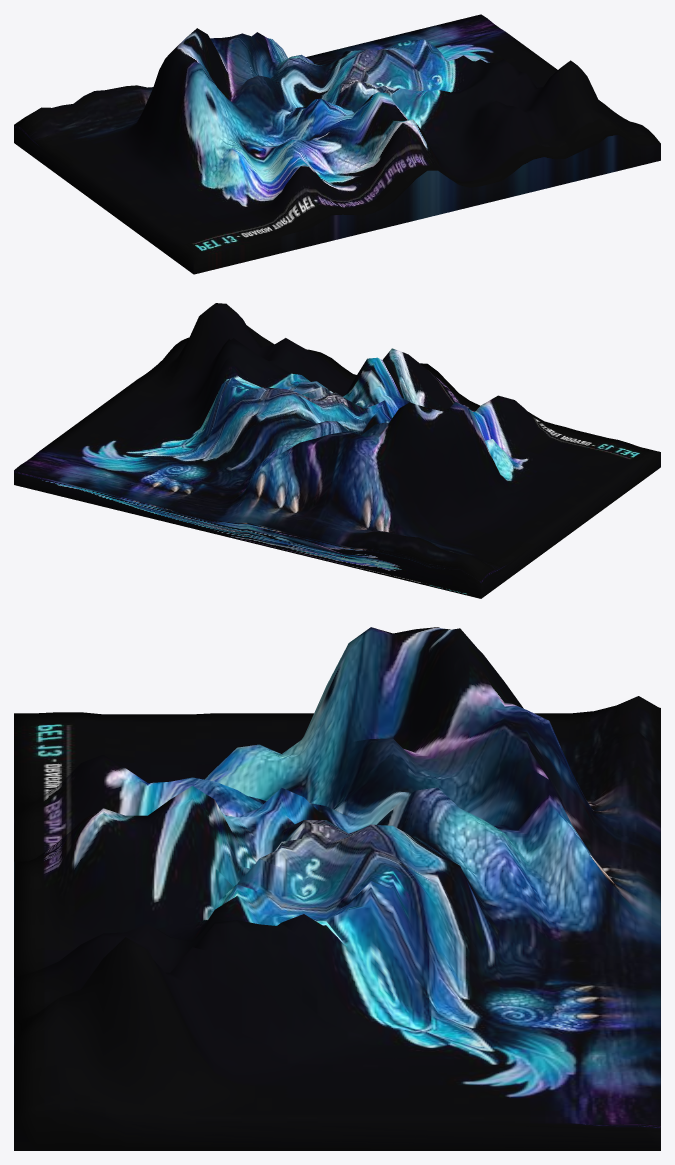
File: PET_13_Dragon_Turtle.glb
The picture shows the model from 3 angles, top to bottom: view 1: azimuth 30°, elevation 25°; view 2: azimuth 150°, elevation 25°; view 3: azimuth 270°, elevation 25°; orthographic projection. The views are drawn at different scales.
Visible parts, largest first — view 1: PET_13_Dragon_Turtle; view 2: PET_13_Dragon_Turtle; view 3: PET_13_Dragon_Turtle.
Part boxes in pixels (<box>): PET_13_Dragon_Turtle: <box>14,14,660,274</box>; PET_13_Dragon_Turtle: <box>14,303,660,598</box>; PET_13_Dragon_Turtle: <box>14,627,660,1150</box>.
Size of the model in its own units: 2 by 0.51 by 1.33.
Materials: 1 (1 with a texture image).
